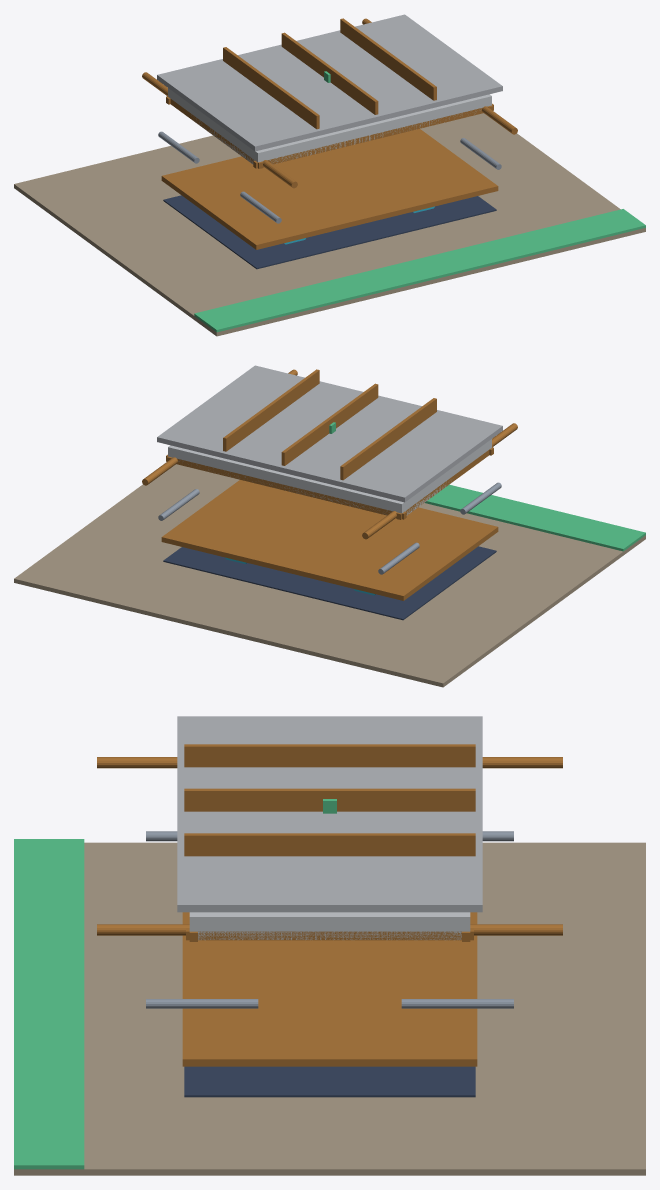
Rendered from stage_12_complete.glb.
3 renders of one model, top to bottom at view 1: azimuth 30°, elevation 25°; view 2: azimuth 150°, elevation 25°; view 3: azimuth 270°, elevation 25°, orthographic. The views are drawn at different scales.
Visible parts, largest first — view 1: world; view 2: world; view 3: world.
Part boxes in pixels (x1,y1,x2,y2): world: (14, 14, 645, 336); world: (14, 365, 645, 687); world: (14, 716, 645, 1175).
Size of the model in its own units: 11 by 3.5 by 9.
